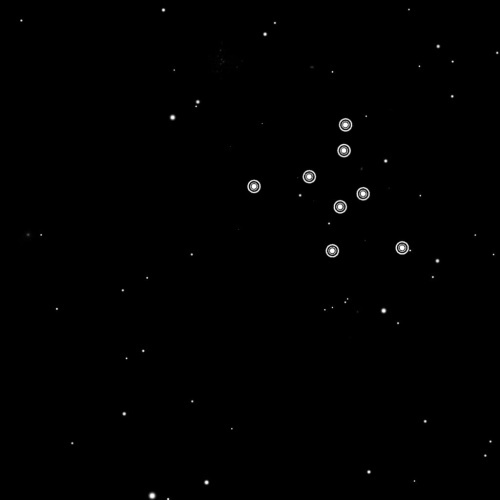hercules: (239, 107, 416, 263)
